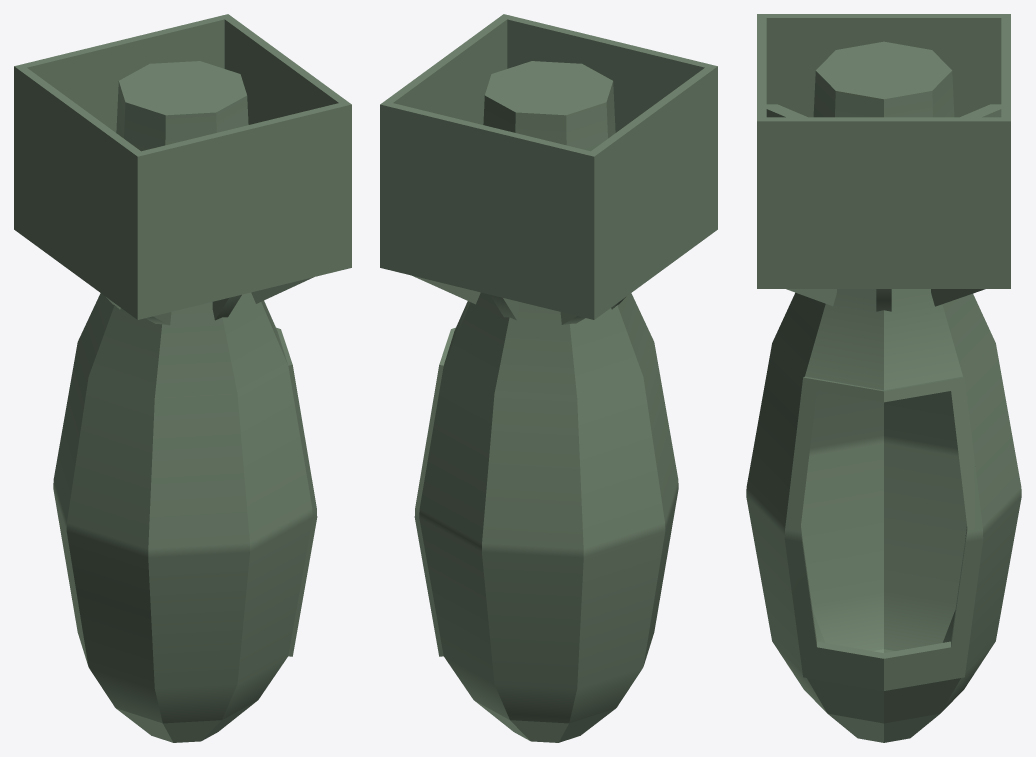
Rendered from Drop Pod Body.fbx.
3 views of the same model, side by side, from view 1: azimuth 30°, elevation 25°; view 2: azimuth 150°, elevation 25°; view 3: azimuth 270°, elevation 25° (orthographic). The views are drawn at different scales.
Parts seen in each view (by area): view 1: pCube9; view 2: pCube9; view 3: pCube9.
Boxes of the visible parts, left/top/right/bottom form: pCube9: left=14, top=14, right=351, bottom=742; pCube9: left=380, top=14, right=717, bottom=742; pCube9: left=746, top=14, right=1021, bottom=742.
Bounding box in the file's own units: 9.87 × 27.14 × 10.28.
